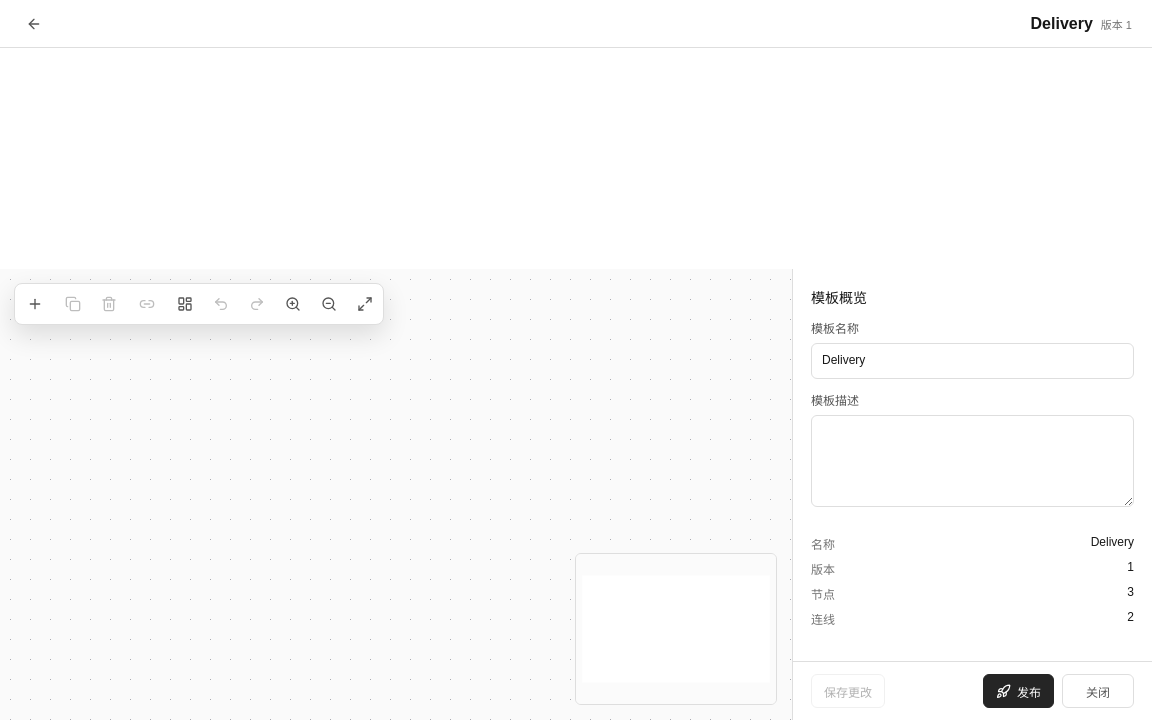
Test case: WorkflowTemplateCanvasPage › toasts a safe undo failure
Click the button named "添加节点": {"x": 35, "y": 304} [19,288,51,320]
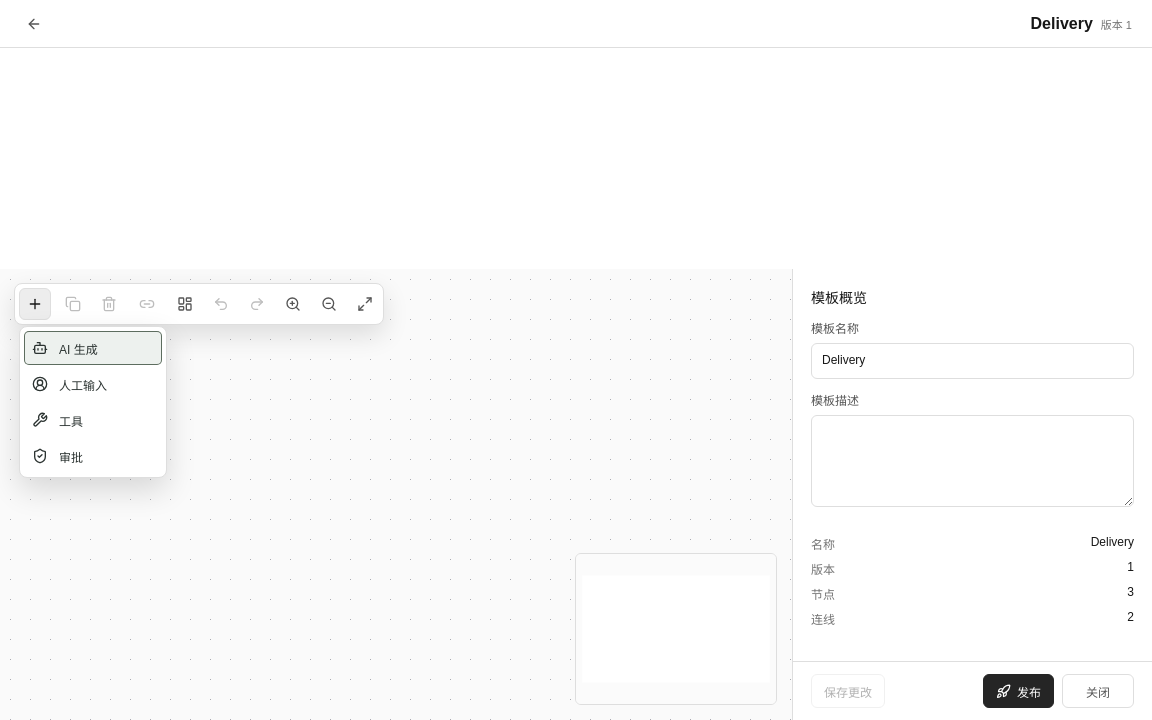
Click the menu item "AI 生成": {"x": 93, "y": 348} [24,331,162,365]
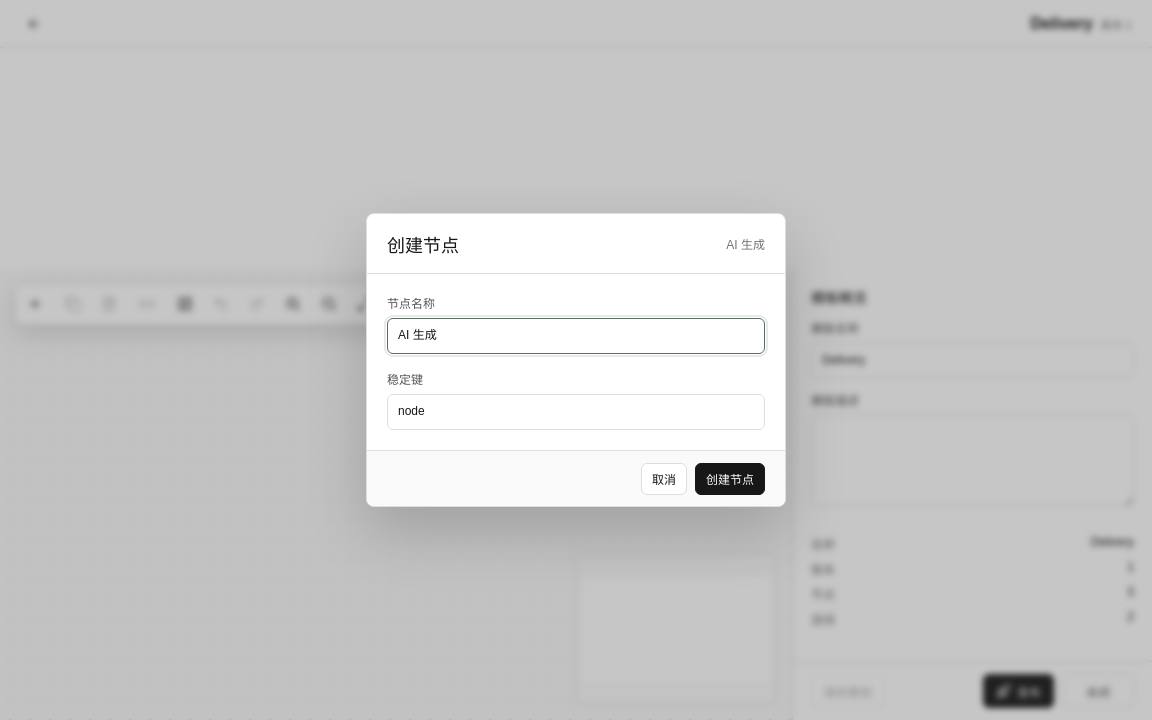
Click the button "创建节点": {"x": 730, "y": 478} [695,462,765,494]
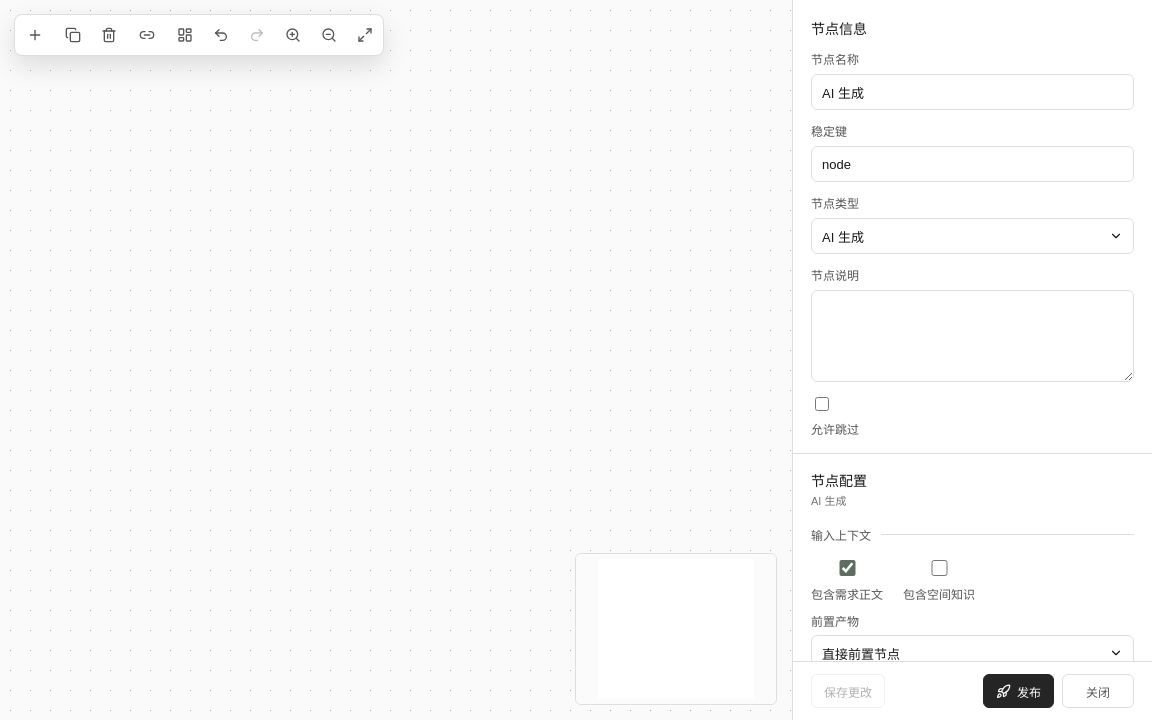
Now the button named "撤销" is enabled
Click the button named "撤销": {"x": 221, "y": 35} [207,19,235,51]
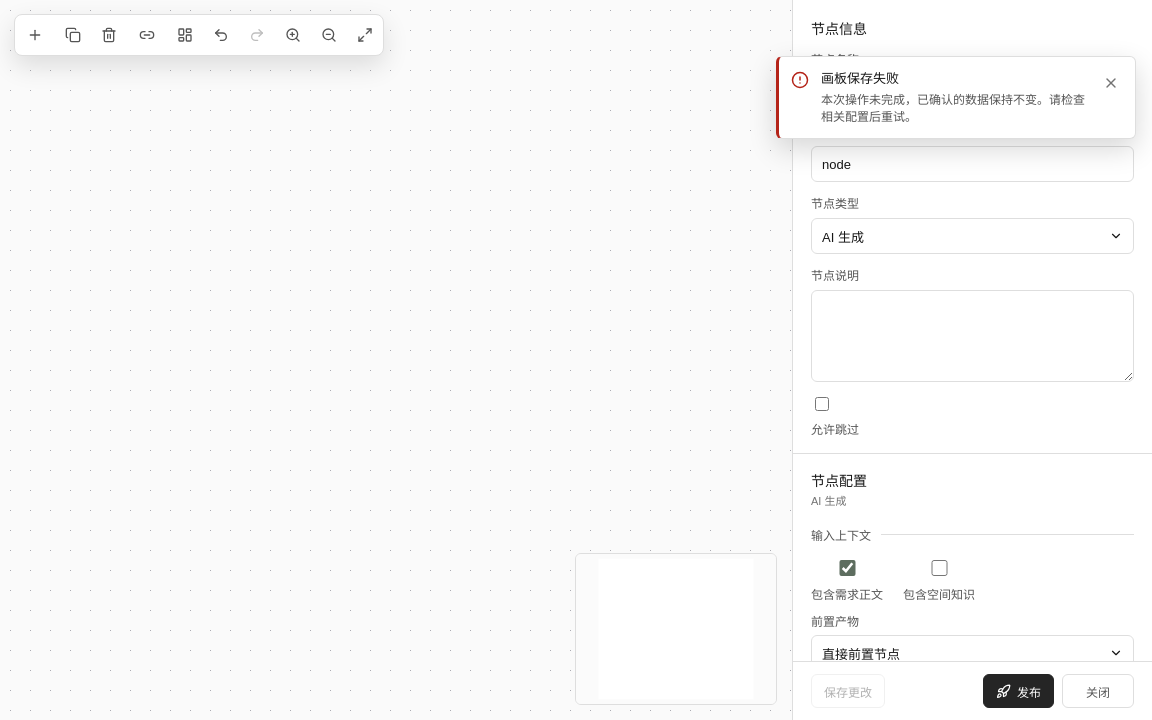
Expected: the message does not show "/private/undo.log", [776,56,1136,139]
Now the message shows "画板保存失败", box [821,71,899,86]
